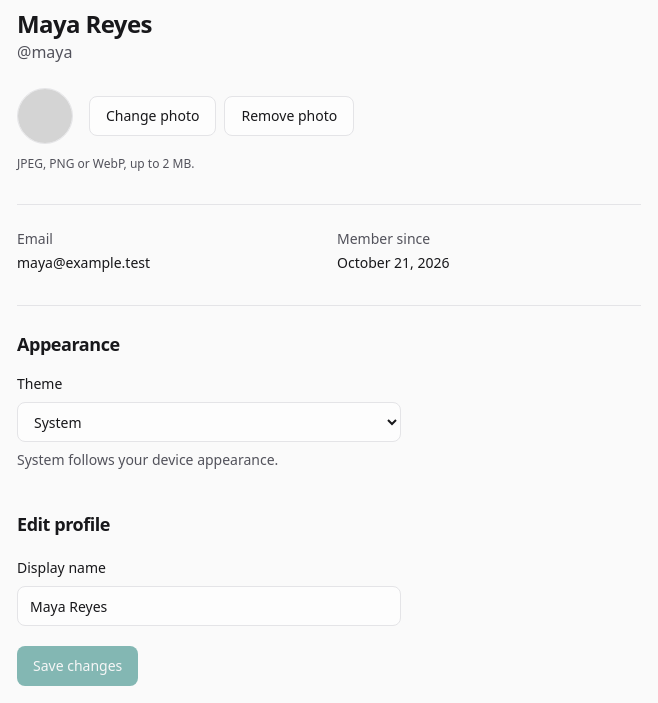
Scenario: profile picture › removes the picture
Click the button "Remove photo": click(289, 116) [224,96,354,136]
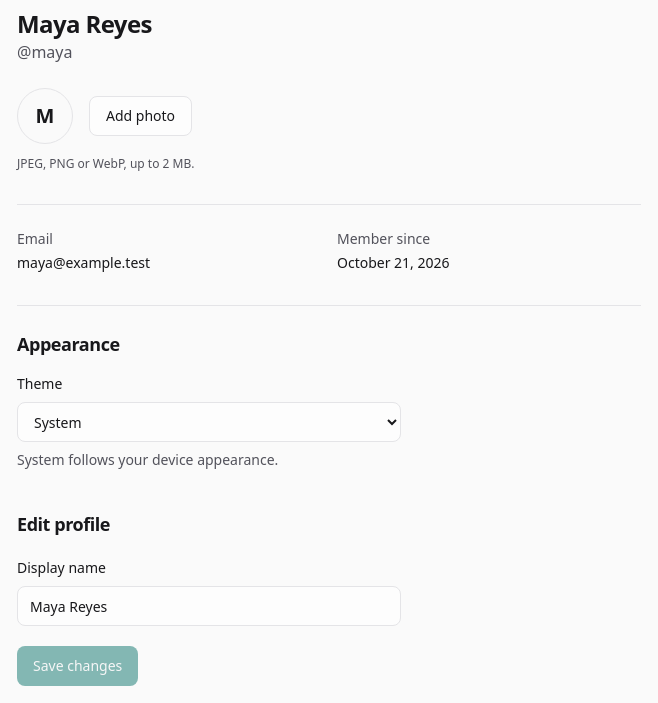
Expected: the button "Add photo" is shown, [89,96,192,136]
Expected: the picture is gone
